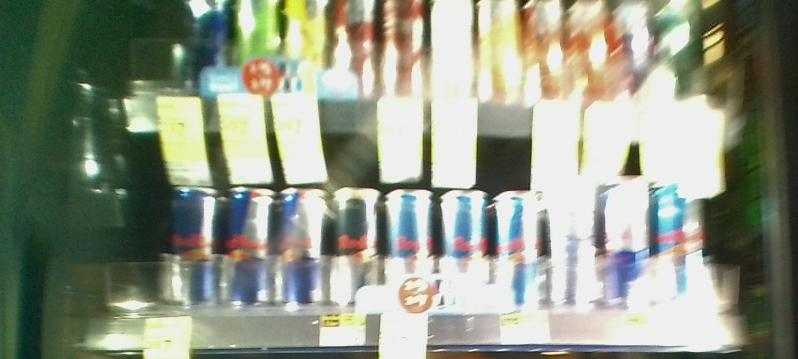bottle: (439, 180, 491, 309), (331, 180, 381, 313), (496, 183, 546, 314), (170, 181, 219, 311), (386, 175, 433, 310), (601, 172, 648, 306), (225, 181, 273, 310), (654, 178, 702, 302), (550, 175, 594, 309), (282, 184, 325, 307)
